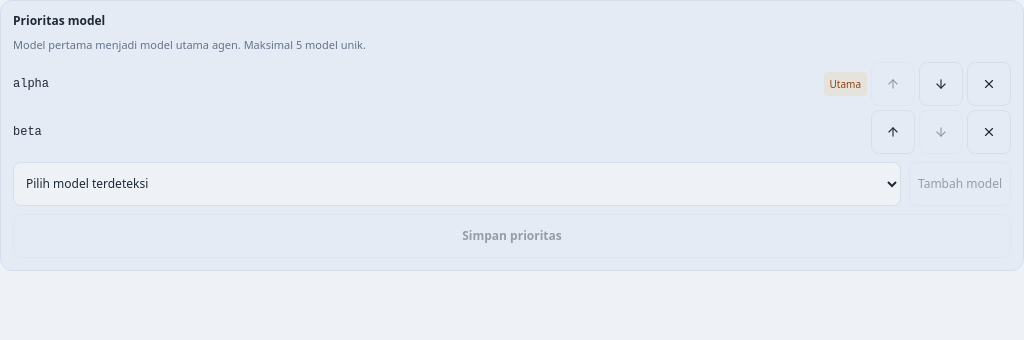
Scenario: ModelPriorityEditor › does not claim success after mismatch failure
Expected: the text "alpha" is shown, [13,76,49,90]
What coordinates should you click on to do the following:
click the button named "Naikkan beta"
I would click on:
 (893, 132)
Its box is [871,110,915,154].
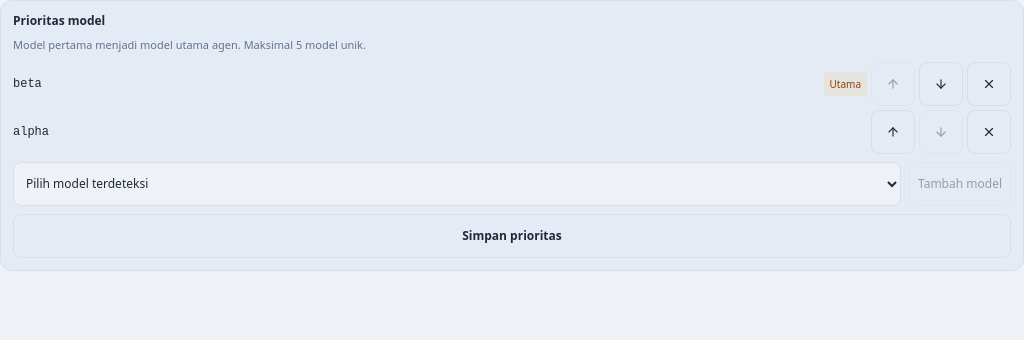
What coordinates should you click on to do the following:
click the button "Simpan prioritas"
I would click on:
 (512, 236)
Its box is [13,214,1011,258].
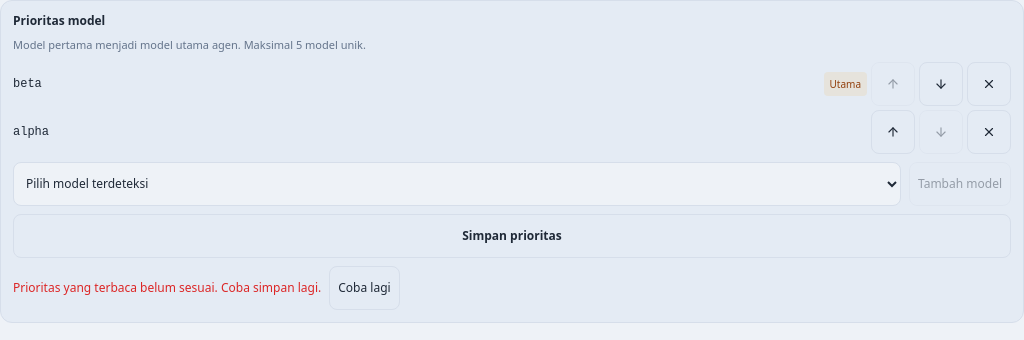
Expected: the button "Simpan prioritas" is enabled, [13,214,1011,258]
Expected: the message "Prioritas yang terbaca belum sesuai. Coba simpan lagi. Coba lagi" is shown, [13,266,400,310]
